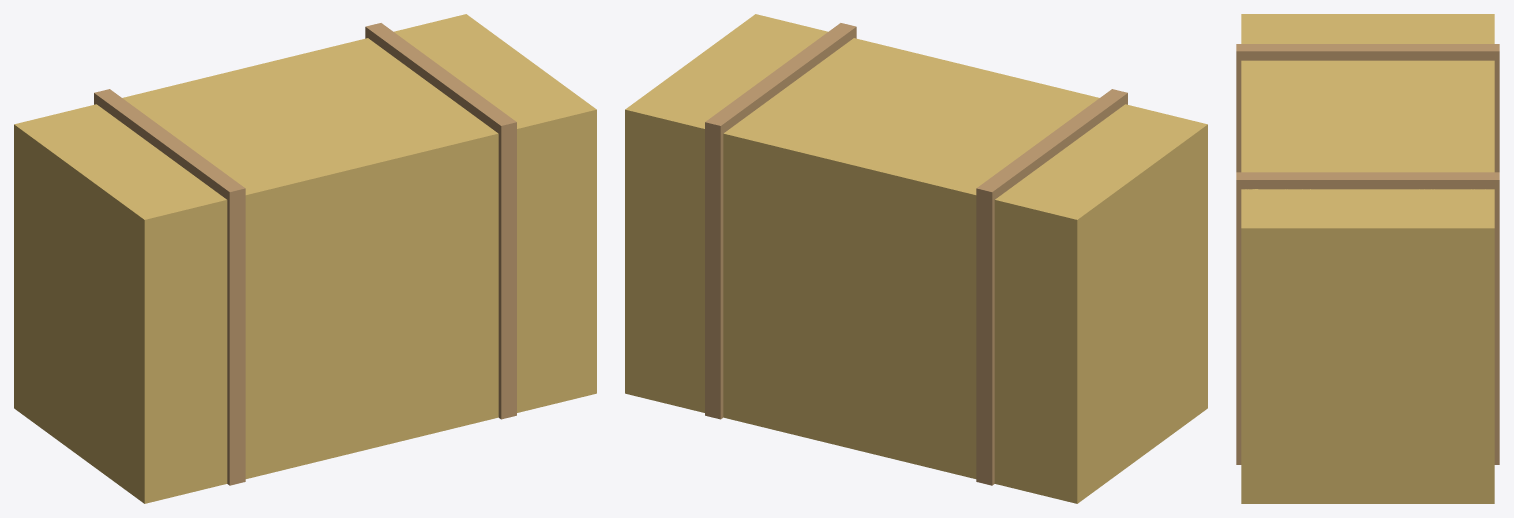
Rendered from cozy-farm-and-homestead-hay-bale-342cbe74__19410.glb.
The picture shows the model from 3 angles, left to right: view 1: azimuth 30°, elevation 25°; view 2: azimuth 150°, elevation 25°; view 3: azimuth 270°, elevation 25°; orthographic projection. The views are drawn at different scales.
Visible parts, largest first — view 1: hay-bale; view 2: hay-bale; view 3: hay-bale.
Part boxes in pixels (<box>): hay-bale: <box>14,14,596,503</box>; hay-bale: <box>625,14,1207,503</box>; hay-bale: <box>1236,14,1499,503</box>.
Bounding box in the file's own units: 1 × 0.62 × 0.52.
